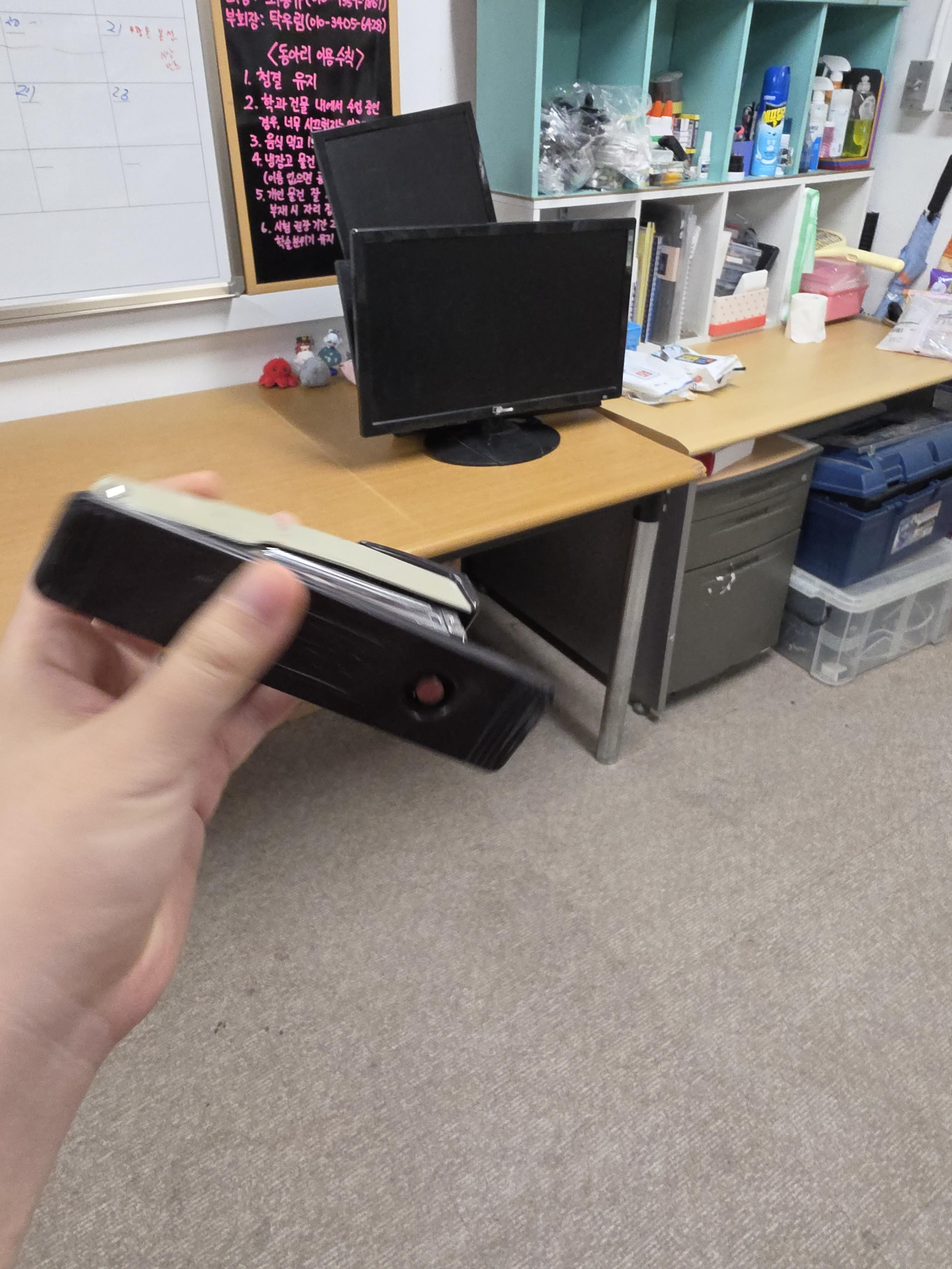stapler: (30, 473, 560, 771)
tissue: (707, 269, 769, 338), (789, 292, 829, 344)
